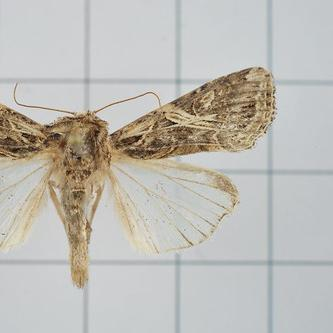Spodoptera litura: (1, 67, 277, 289)
